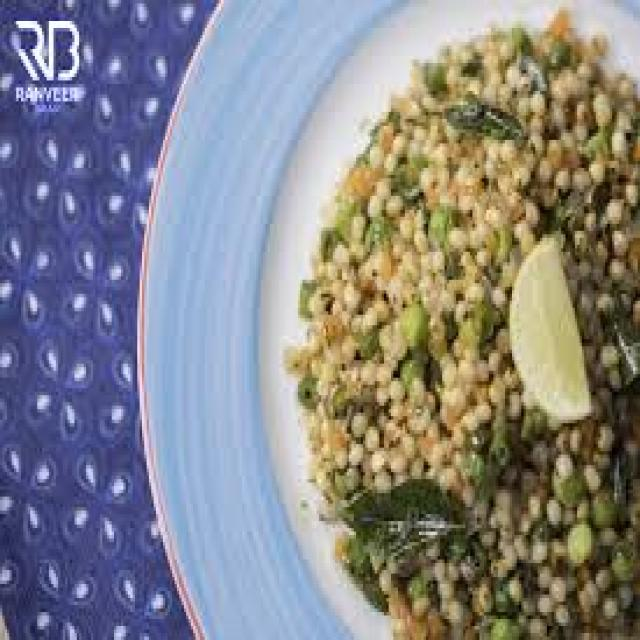UPMA: (284, 14, 635, 637)
